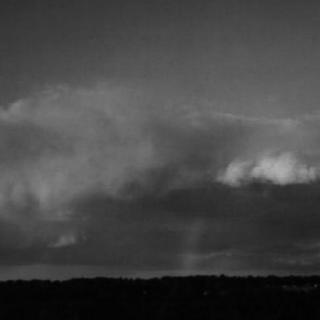Cumulus: (0, 1, 320, 274)
